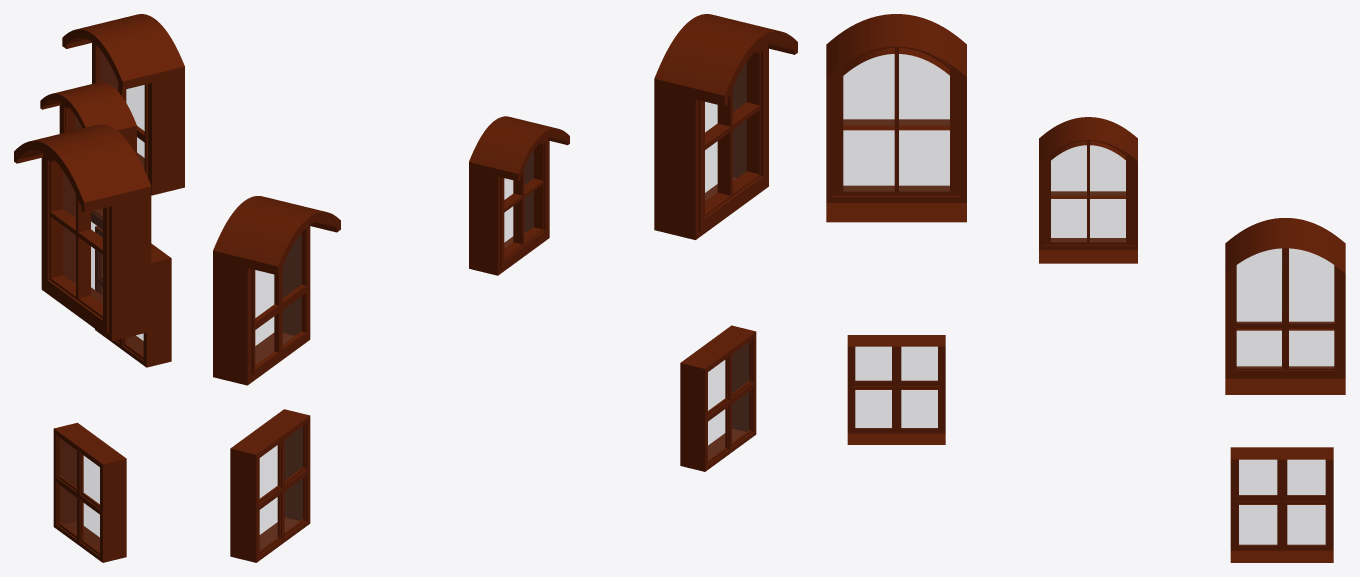
The model's file is Janelas-Transparentes.fbx.
3 renders of one model, left to right at view 1: azimuth 30°, elevation 25°; view 2: azimuth 150°, elevation 25°; view 3: azimuth 270°, elevation 25°, orthographic. The views are drawn at different scales.
Parts seen in each view (by area): view 1: Cube.006, Cube.003, Cube.004, Cube.005, Cube.002; view 2: Cube.006, Cube.003, Cube.005, Cube.002, Cube.004; view 3: Cube.006, Cube.003, Cube.005, Cube.002, Cube.004.
Part boxes in pixels (x1=…): Cube.006: x1=14, y1=124, x2=151, y2=340; Cube.003: x1=62, y1=14, x2=184, y2=195; Cube.004: x1=53, y1=422, x2=126, y2=562; Cube.005: x1=40, y1=82, x2=136, y2=229; Cube.002: x1=95, y1=226, x2=171, y2=367; Cube.006: x1=654, y1=14, x2=797, y2=239; Cube.003: x1=213, y1=196, x2=340, y2=385; Cube.005: x1=469, y1=116, x2=569, y2=275; Cube.002: x1=230, y1=409, x2=310, y2=562; Cube.004: x1=680, y1=325, x2=756, y2=471; Cube.006: x1=826, y1=14, x2=966, y2=222; Cube.003: x1=1225, y1=218, x2=1345, y2=394; Cube.005: x1=1039, y1=117, x2=1137, y2=263; Cube.002: x1=1230, y1=447, x2=1333, y2=562; Cube.004: x1=847, y1=335, x2=945, y2=444.
Bounding box in the file's own units: 923 × 1198 × 1383.
